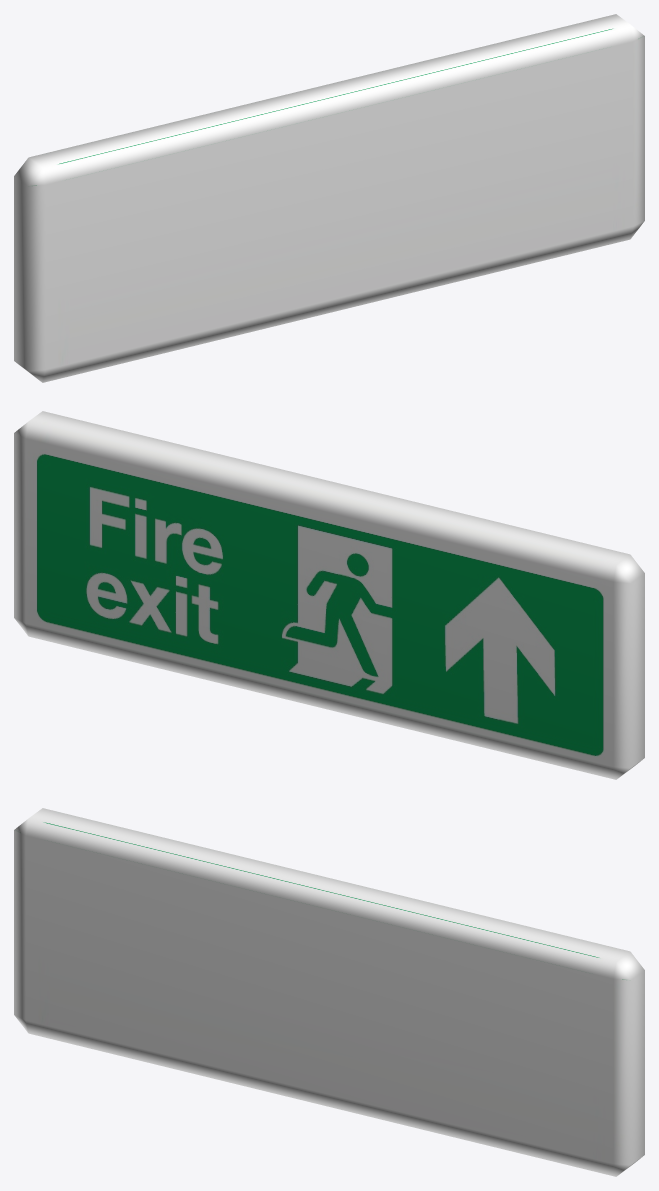
File: Fire_Exit_sign.fbx
The picture shows the model from 3 angles, top to bottom: view 1: azimuth 30°, elevation 25°; view 2: azimuth 150°, elevation 25°; view 3: azimuth 330°, elevation 25°; orthographic projection.
Visible parts, largest first — view 1: Fire_exit_sign; view 2: Fire_exit_sign; view 3: Fire_exit_sign.
Part boxes in pixels (bbox=[...]): Fire_exit_sign: bbox=[14, 14, 644, 382]; Fire_exit_sign: bbox=[14, 411, 644, 779]; Fire_exit_sign: bbox=[14, 808, 644, 1176].
Size of the model in its own units: 1.5 by 0.5 by 0.0832.
